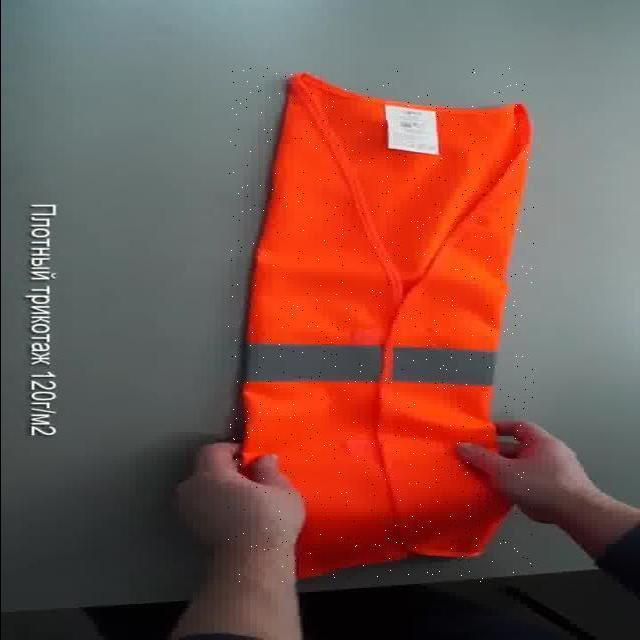vest: (227, 68, 532, 582)
